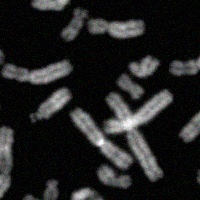chromosome: (106, 93, 163, 183), (69, 108, 132, 169), (103, 90, 173, 134), (0, 59, 73, 85), (29, 87, 71, 125), (179, 81, 200, 142), (88, 18, 145, 38), (0, 126, 13, 200), (169, 46, 200, 76), (60, 8, 87, 42), (97, 164, 131, 187), (129, 54, 159, 77), (116, 73, 143, 98), (31, 0, 82, 11), (71, 187, 112, 200), (43, 179, 58, 200), (21, 194, 52, 200), (0, 41, 4, 64), (196, 167, 200, 187), (0, 83, 1, 112)
